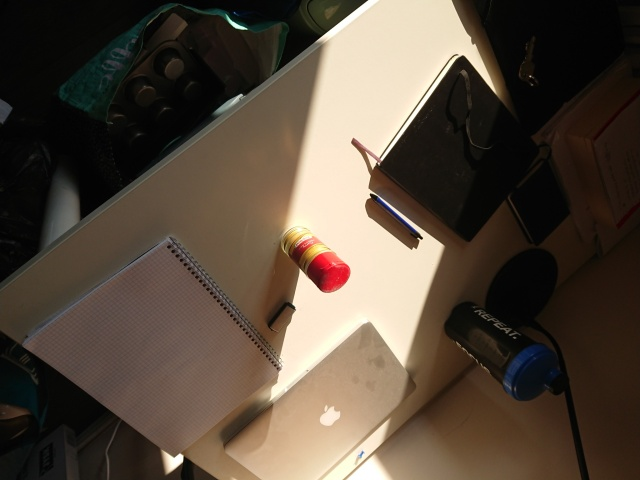Kotanyi Curry Spices Mix 70g: (278, 223, 352, 295)
